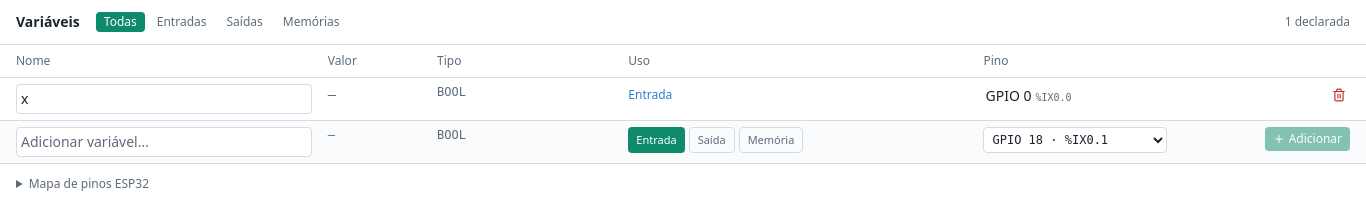
Test case: TabelaVariaveis — trocar pino (edição in-place por botão) › em repouso mostra só o texto do pino; o botão "Alterar pino" abre o select
Click the button with aria-label "Alterar pino de x".
click(1075, 96)  # box top-left (984, 84), bottom-right (1167, 108)
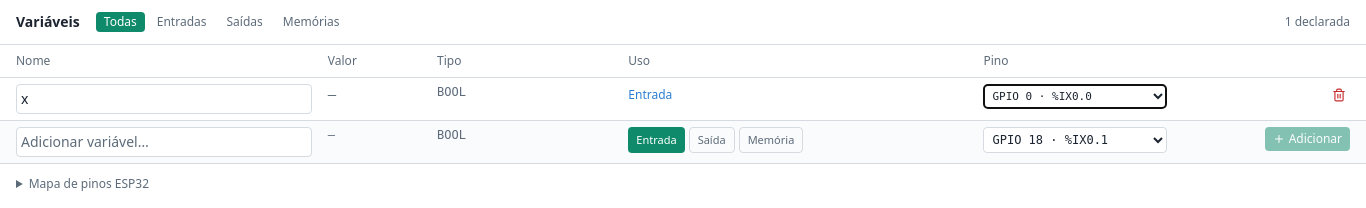
Expected: the dropdown named "Pino da variável x" is shown, top-left (984, 84), bottom-right (1167, 109)
